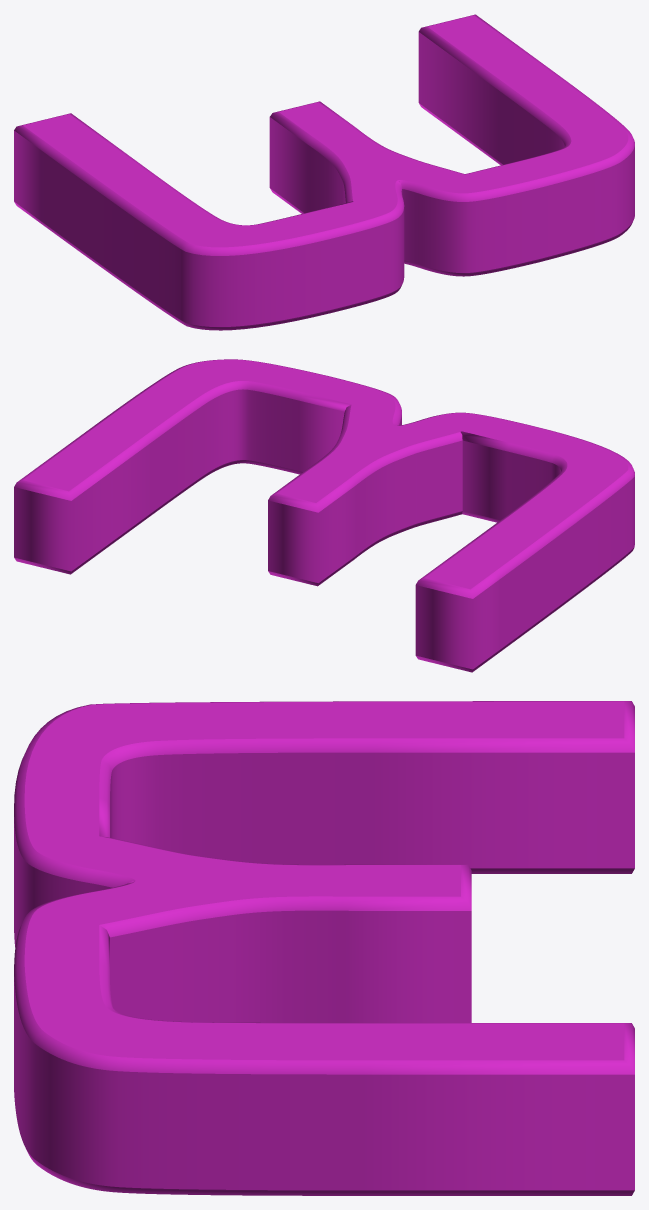
File: Letter_m_CoolFont.fbx
3 views of the same model, one above another, from view 1: azimuth 30°, elevation 25°; view 2: azimuth 150°, elevation 25°; view 3: azimuth 270°, elevation 25° (orthographic). The views are drawn at different scales.
Visible parts, largest first — view 1: Letter_m; view 2: Letter_m; view 3: Letter_m.
Boxes of the visible parts, x1,y1,x2,y2 form: Letter_m: [14, 14, 634, 330]; Letter_m: [14, 359, 634, 672]; Letter_m: [14, 701, 634, 1195].
Size of the model in its own units: 0.8171 by 0.14 by 0.5828.
